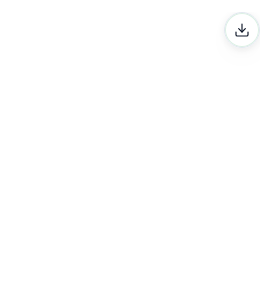
Test case: DownloadMenu › enables native selected-field downloads and keeps unavailable formats disabled
Later steps or results of the test are not shown.
Click the button with test id "download-menu-toggle".
click(242, 30)  # box x1=224 y1=12 x2=260 y2=48
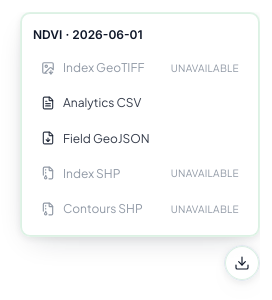
Expected: the button with test id "download-index-tiff" is disabled, x1=33 y1=52 x2=247 y2=83
Expected: the button with test id "download-analytics-csv" is enabled, x1=33 y1=87 x2=247 y2=119
Expected: the button with test id "download-field-geojson" is enabled, x1=33 y1=123 x2=247 y2=154
